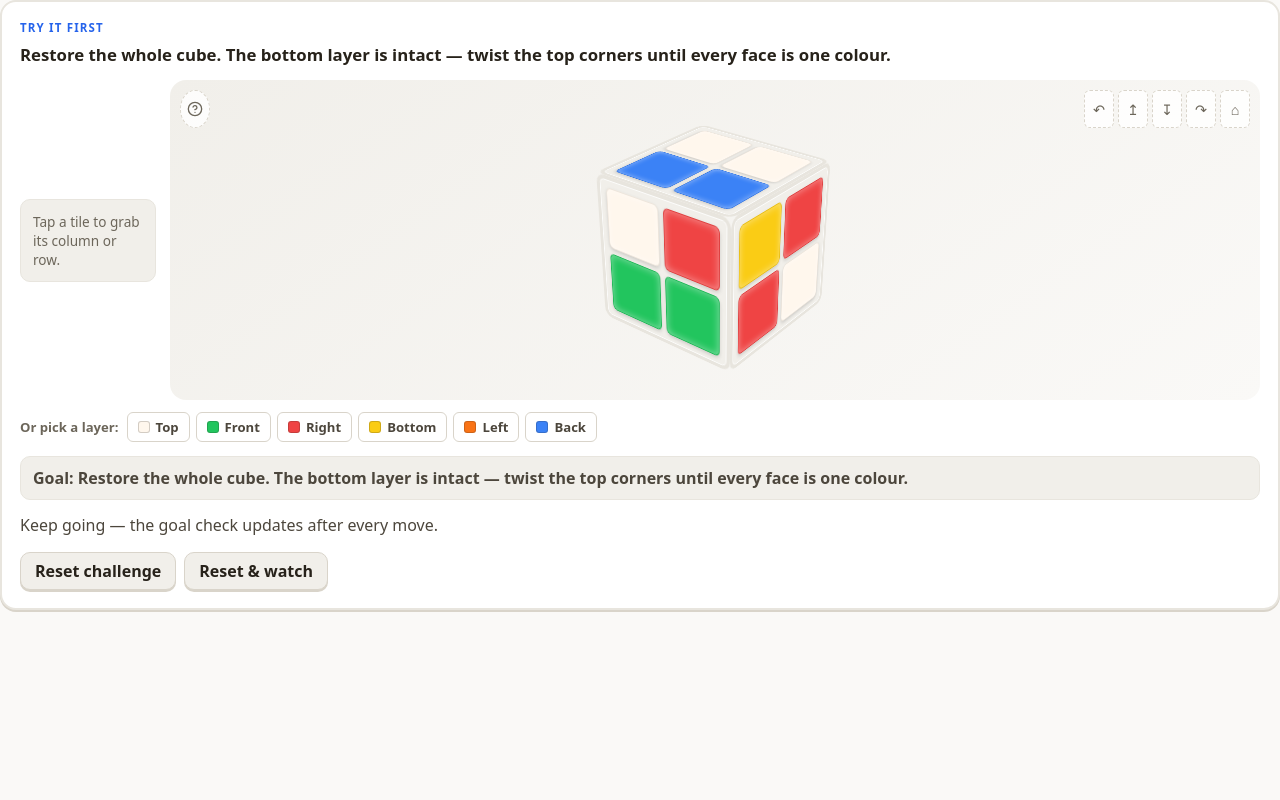
ChallengePanel — state goal with demo › hides demo stepping after a manual move until reset
Click the button "Reset & watch" at (256, 571), box [184,552,328,590]
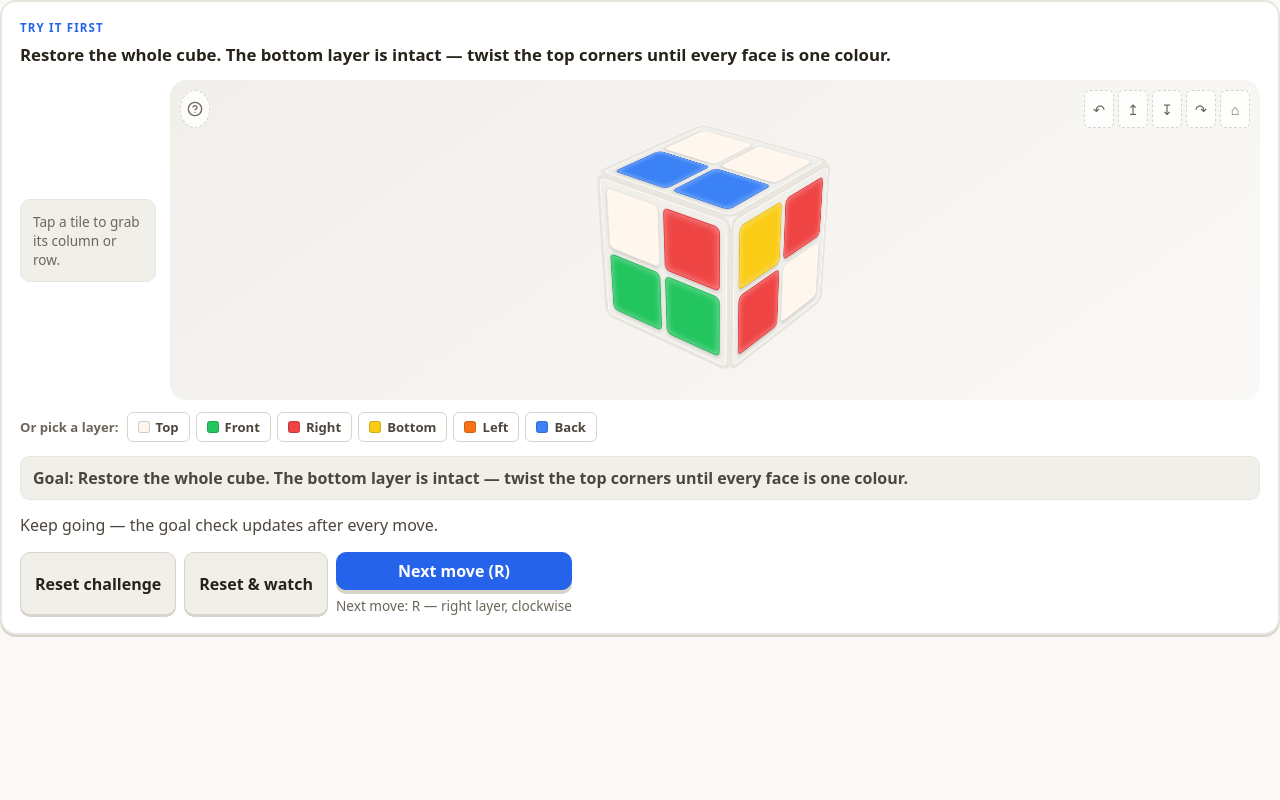
Click the button named "Select the top layer (white, U)" at (713, 172), box [596,124,830,219]
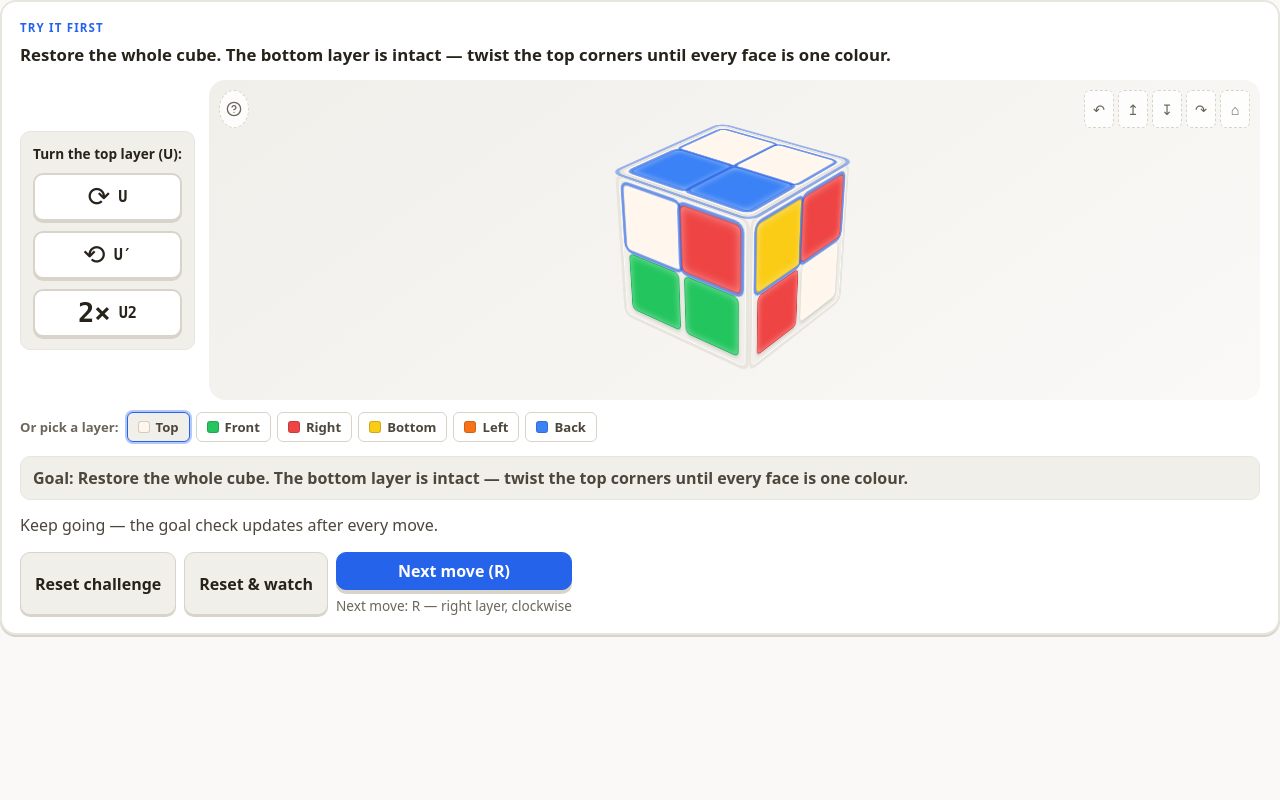
Click the button named "turn selected layer clockwise" at (107, 196), box [33,172,182,220]
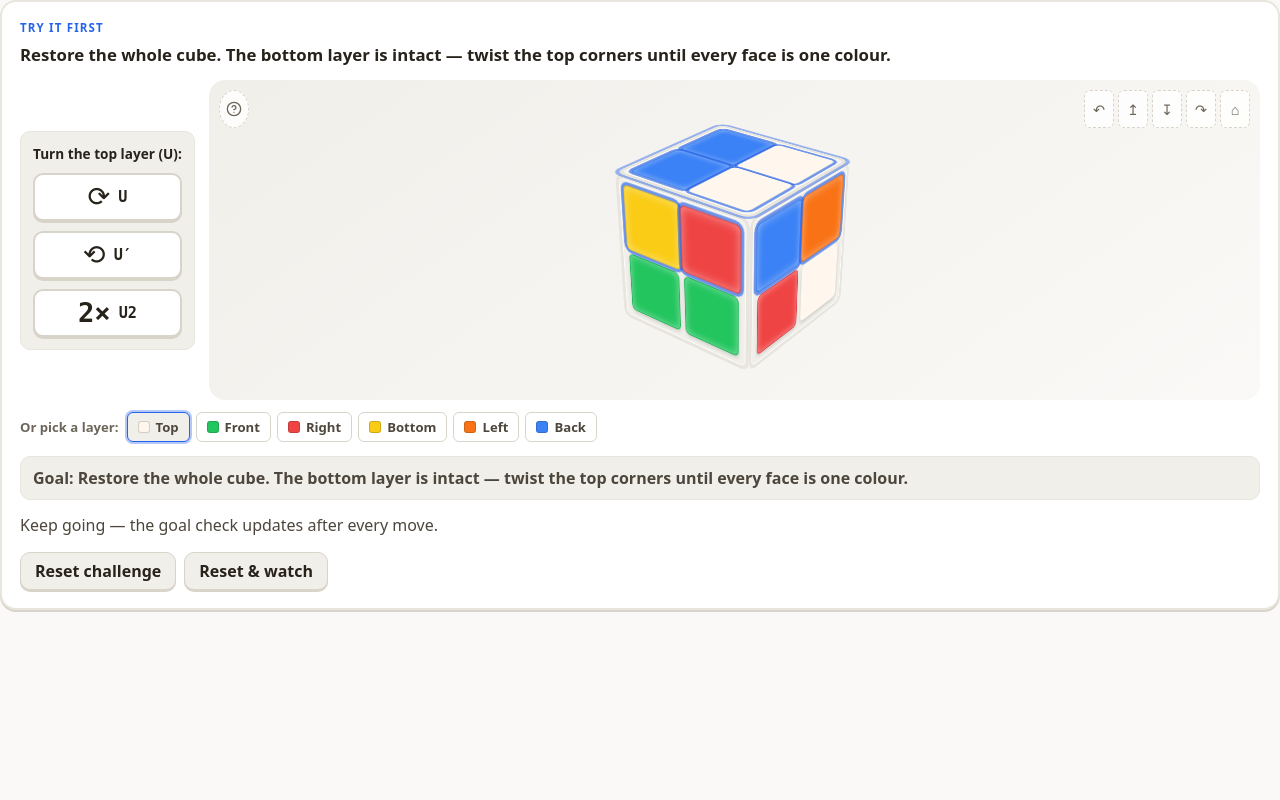
expect the button "Next move" is gone: met
